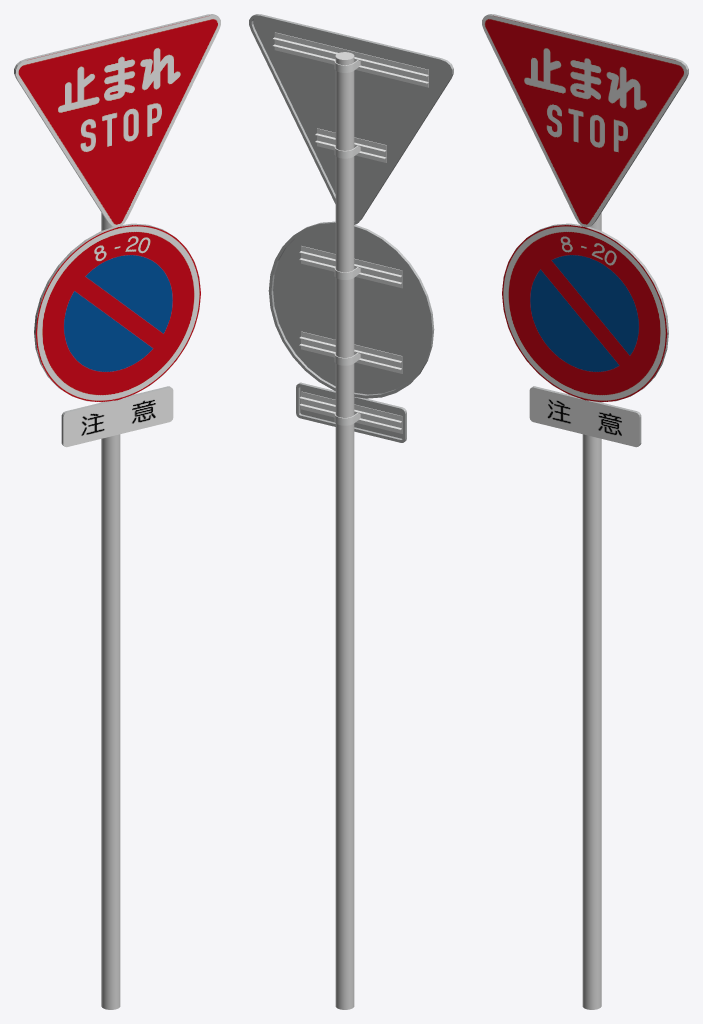
Rendered from roadSign.gltf.
3 renders of one model, left to right at view 1: azimuth 30°, elevation 25°; view 2: azimuth 150°, elevation 25°; view 3: azimuth 330°, elevation 25°, orthographic.
Parts seen in each view (by area): view 1: Cir.003, Tri.002, Pole.012, Rect-small.004; view 2: Cir.003, Tri.002, Pole.012, Rect-small.004; view 3: Cir.003, Tri.002, Pole.012, Rect-small.004.
Boxes of the visible parts, left/top/right/bottom form: Cir.003: left=34, top=223, right=200, bottom=402; Tri.002: left=14, top=14, right=220, bottom=227; Pole.012: left=101, top=213, right=120, bottom=1009; Rect-small.004: left=61, top=386, right=173, bottom=447; Cir.003: left=268, top=221, right=434, bottom=398; Tri.002: left=249, top=14, right=453, bottom=224; Pole.012: left=335, top=52, right=354, bottom=1009; Rect-small.004: left=296, top=382, right=406, bottom=442; Cir.003: left=502, top=223, right=668, bottom=402; Tri.002: left=482, top=14, right=688, bottom=227; Pole.012: left=582, top=213, right=601, bottom=1009; Rect-small.004: left=529, top=386, right=641, bottom=447.
Bounding box in the file's own units: 0.7444 × 3.38 × 0.0798.
Materials: 6 (3 with a texture image).
